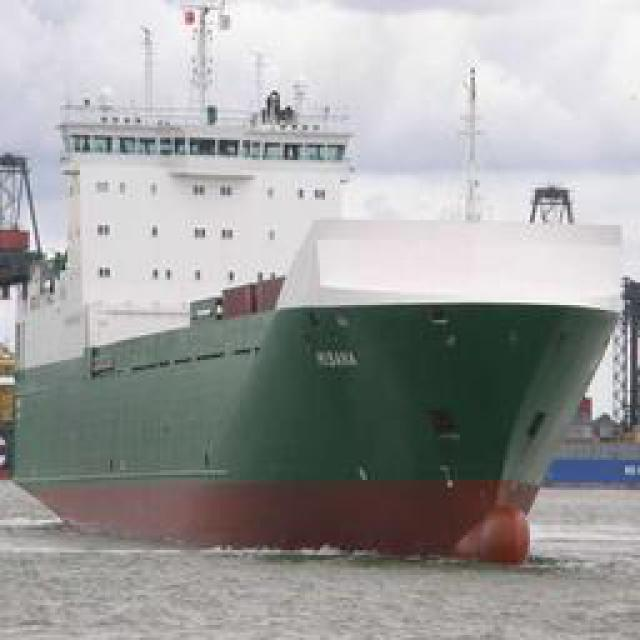Ship: (12, 2, 633, 568)
